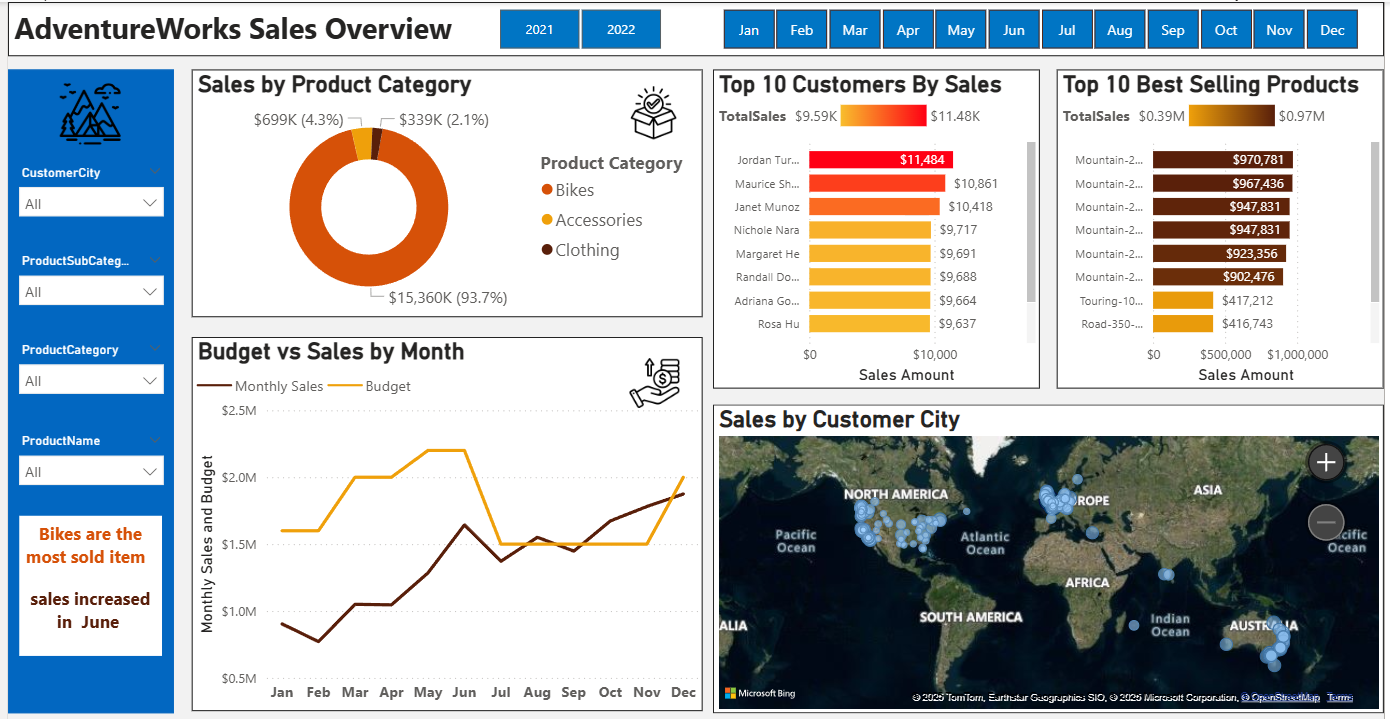

Layout of this report page (visuals, bound fields, positions):
{"tool":"powerbi","page":{"name":"Sales Overview","canvas":[1280,720],"ordinal":0},"visuals":[{"type":"textbox","box":[0,0,1280.2,50],"z":0},{"type":"slicer","fields":{"Values":["DimDate.Year"]},"box":[431,0,200,50],"z":1000},{"type":"slicer","fields":{"Values":["DimDate.MonthShort"]},"box":[640,0,640,50],"z":2000},{"type":"donutChart","title":"Sales by Product Category","fields":{"Category":["DimProduct.ProductCategory"],"Y":["Key Measures.TotalSales"]},"box":[171,62.7,475.3,230.6],"z":3000},{"type":"lineChart","title":"Budget vs Sales by Month","fields":{"Y":["Key Measures.TotalSales","Key Measures.TotalBudget"],"Category":["DimDate.MonthShort"]},"box":[171,312.2,475.3,348.2],"z":4000},{"type":"barChart","title":"Top 10 Customers By Sales","fields":{"Y":["Key Measures.TotalSales"],"Category":["DimCustomer.Full Name"]},"box":[655.7,62.7,304.3,296.5],"z":5000},{"type":"barChart","title":"Top 10 Best Selling Products","fields":{"Y":["Key Measures.TotalSales"],"Category":["DimProduct.ProductName"]},"box":[975.7,62.7,304.3,296.5],"z":6000},{"type":"map","title":"Sales by Customer City","fields":{"Category":["DimCustomer.CustomerCity"],"Size":["Key Measures.TotalSales"]},"box":[655.7,374.9,624.3,287.1],"z":7000},{"type":"shape","box":[0,62.8,154.7,598.8],"z":8000},{"type":"slicer","fields":{"Values":["DimProduct.ProductName"]},"box":[0,396.5,154.7,64],"z":9000},{"type":"slicer","fields":{"Values":["DimProduct.ProductCategory"]},"box":[0,311.6,154.7,64],"z":10000},{"type":"slicer","fields":{"Values":["DimCustomer.CustomerCity"]},"box":[0,146.5,154.7,64],"z":11000},{"type":"slicer","fields":{"Values":["DimProduct.ProductSubCategory"]},"box":[0,229.1,154.7,64],"z":12000},{"type":"textbox","box":[10.5,477.9,132.6,130.2],"z":13000},{"type":"image","box":[10.5,70.9,132.6,66.3],"z":14000},{"type":"image","box":[570.9,68.6,59.3,68.6],"z":15000},{"type":"image","box":[570.9,325.6,60.5,58.1],"z":16000}]}

Visuals, with their boxes on the page's 1280x720 design canvas (x1, y1, x2, y2). These are canvas units, not pixel positions in the 1390x719 screenshot, which may show the page scaled, cropped or inside an application window:
textbox: 0, 0, 1280, 50
slicer - DimDate.Year: 431, 0, 631, 50
slicer - DimDate.MonthShort: 640, 0, 1280, 50
"Sales by Product Category" donutChart: 171, 63, 646, 293
"Budget vs Sales by Month" lineChart: 171, 312, 646, 660
"Top 10 Customers By Sales" barChart: 656, 63, 960, 359
"Top 10 Best Selling Products" barChart: 976, 63, 1280, 359
"Sales by Customer City" map: 656, 375, 1280, 662
shape: 0, 63, 155, 662
slicer - DimProduct.ProductName: 0, 396, 155, 460
slicer - DimProduct.ProductCategory: 0, 312, 155, 376
slicer - DimCustomer.CustomerCity: 0, 146, 155, 210
slicer - DimProduct.ProductSubCategory: 0, 229, 155, 293
textbox: 10, 478, 143, 608
image: 10, 71, 143, 137
image: 571, 69, 630, 137
image: 571, 326, 631, 384
